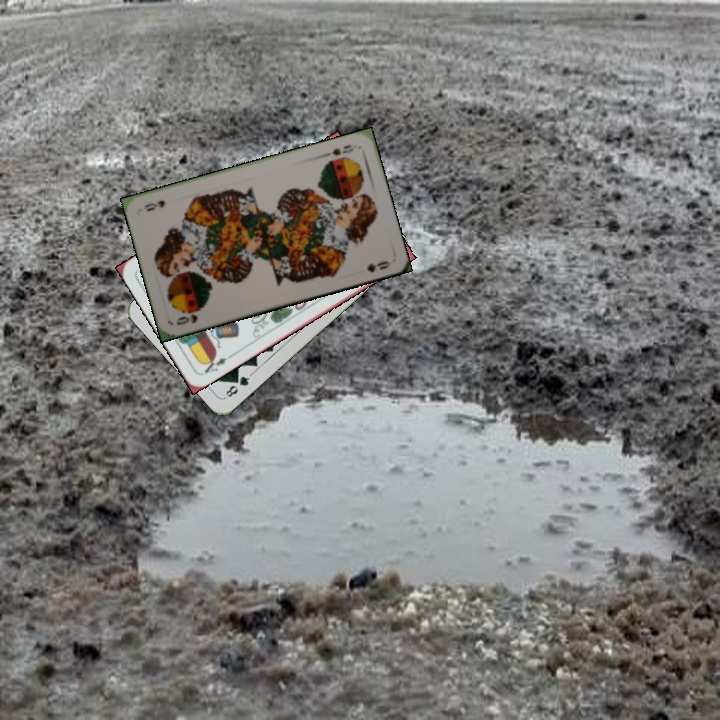EA: (198, 350, 235, 376)
G8: (221, 370, 254, 401)
SO: (320, 140, 360, 159), (172, 305, 203, 328)
